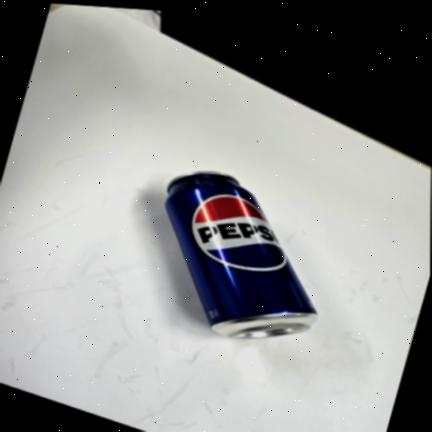can_pepsi: (165, 171, 317, 338)
